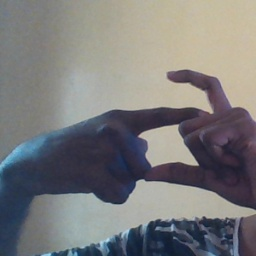E: (107, 63, 231, 184)
